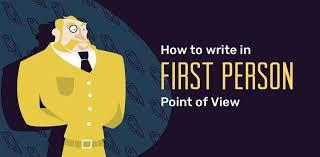Persons: (49, 14, 95, 54)
